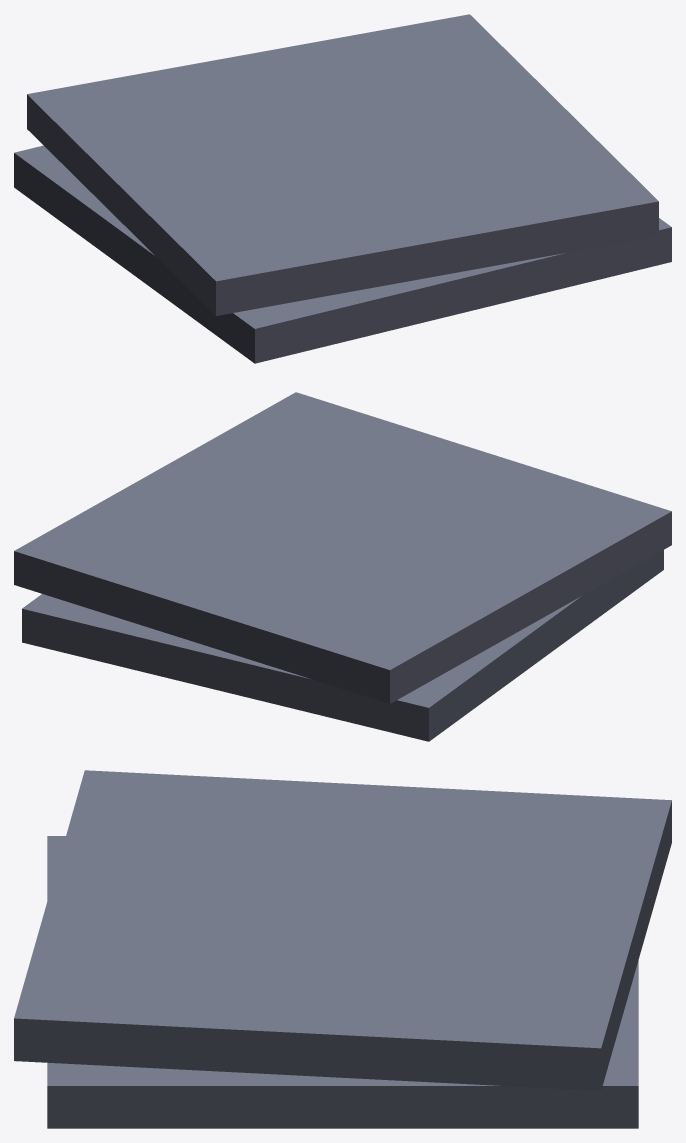
File: item_composite_panel.glb
3 renders of one model, top to bottom at view 1: azimuth 30°, elevation 25°; view 2: azimuth 150°, elevation 25°; view 3: azimuth 270°, elevation 25°, orthographic. The views are drawn at different scales.
Parts seen in each view (by area): view 1: item_composite_panel; view 2: item_composite_panel; view 3: item_composite_panel.
Boxes of the visible parts, x1,y1,x2,y2 form: item_composite_panel: [14, 14, 671, 363]; item_composite_panel: [14, 392, 671, 741]; item_composite_panel: [14, 770, 671, 1128].
Size of the model in its own units: 0.979 by 0.155 by 0.979.
